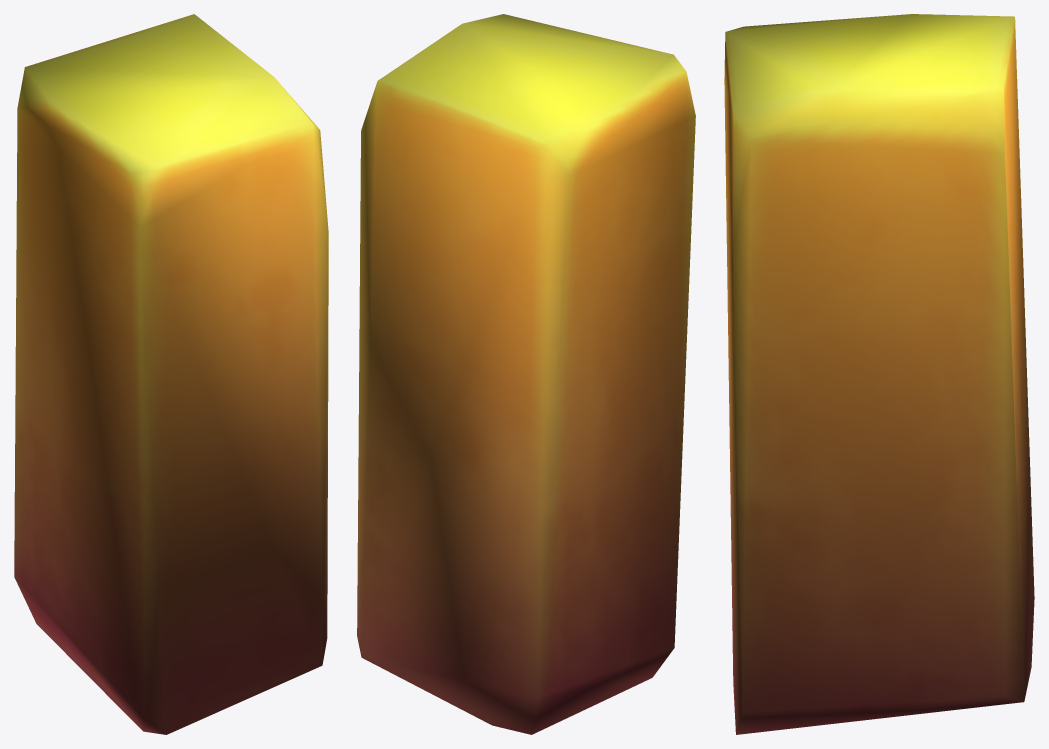
The model's file is SM_Gem_Topaz_Piece_003.fbx.
3 views of the same model, side by side, from view 1: azimuth 30°, elevation 25°; view 2: azimuth 150°, elevation 25°; view 3: azimuth 270°, elevation 25° (orthographic). The views are drawn at different scales.
Parts seen in each view (by area): view 1: SM_Gem_Topaz_Piece_003; view 2: SM_Gem_Topaz_Piece_003; view 3: SM_Gem_Topaz_Piece_003.
Boxes of the visible parts, left/top/right/bottom form: SM_Gem_Topaz_Piece_003: left=14, top=14, right=328, bottom=734; SM_Gem_Topaz_Piece_003: left=357, top=14, right=695, bottom=734; SM_Gem_Topaz_Piece_003: left=724, top=14, right=1034, bottom=734.
Bounding box in the file's own units: 6.03 × 17.54 × 7.23.
